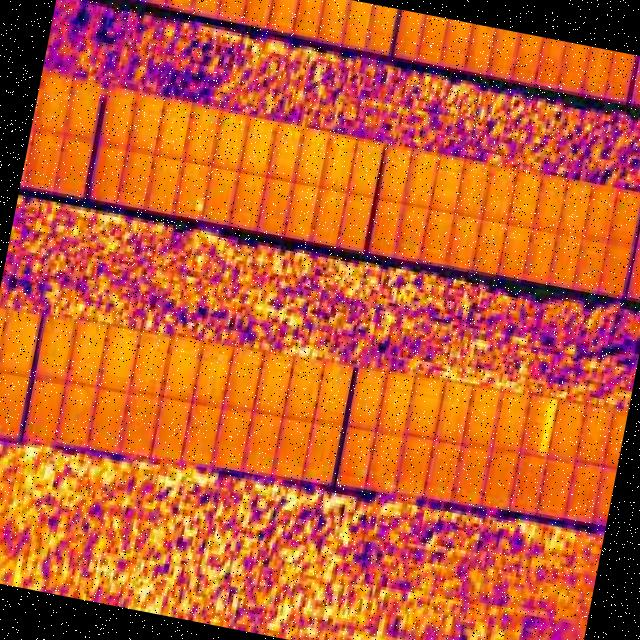Hotspot: (538, 398, 558, 454), (194, 200, 204, 214)
